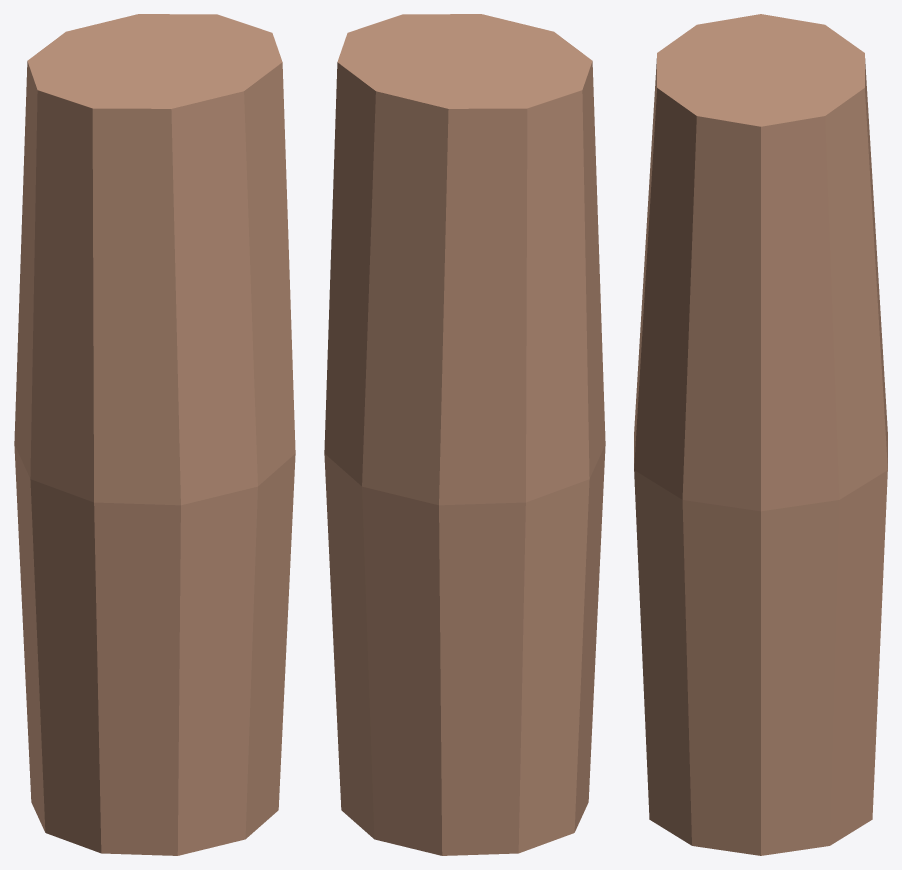
File: wk_buck_lean_pelvis_v01.glb
3 renders of one model, left to right at view 1: azimuth 30°, elevation 25°; view 2: azimuth 150°, elevation 25°; view 3: azimuth 270°, elevation 25°, orthographic.
Parts seen in each view (by area): view 1: GEO_Pelvis; view 2: GEO_Pelvis; view 3: GEO_Pelvis.
Part boxes in pixels (<box>): GEO_Pelvis: <box>14,14,295,855</box>; GEO_Pelvis: <box>324,14,605,855</box>; GEO_Pelvis: <box>634,14,887,855</box>.
Size of the model in its own units: 0.35 by 1 by 0.3138.
